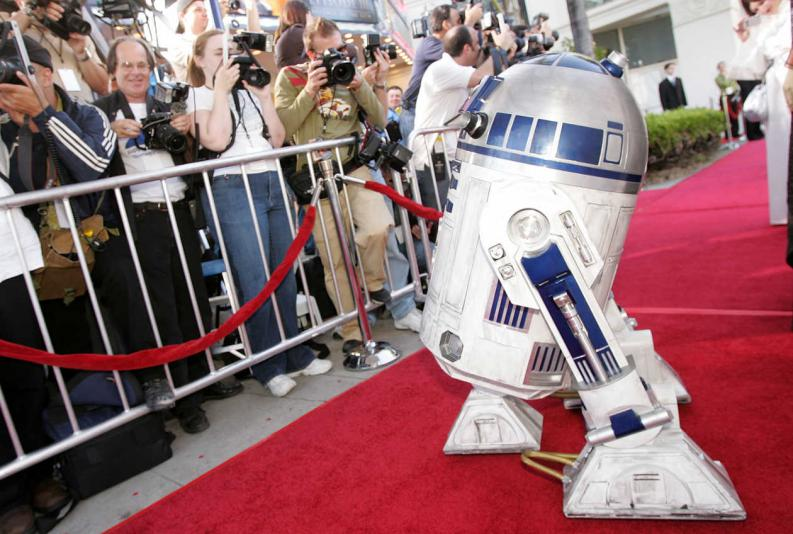r2d2: (431, 52, 745, 518)
